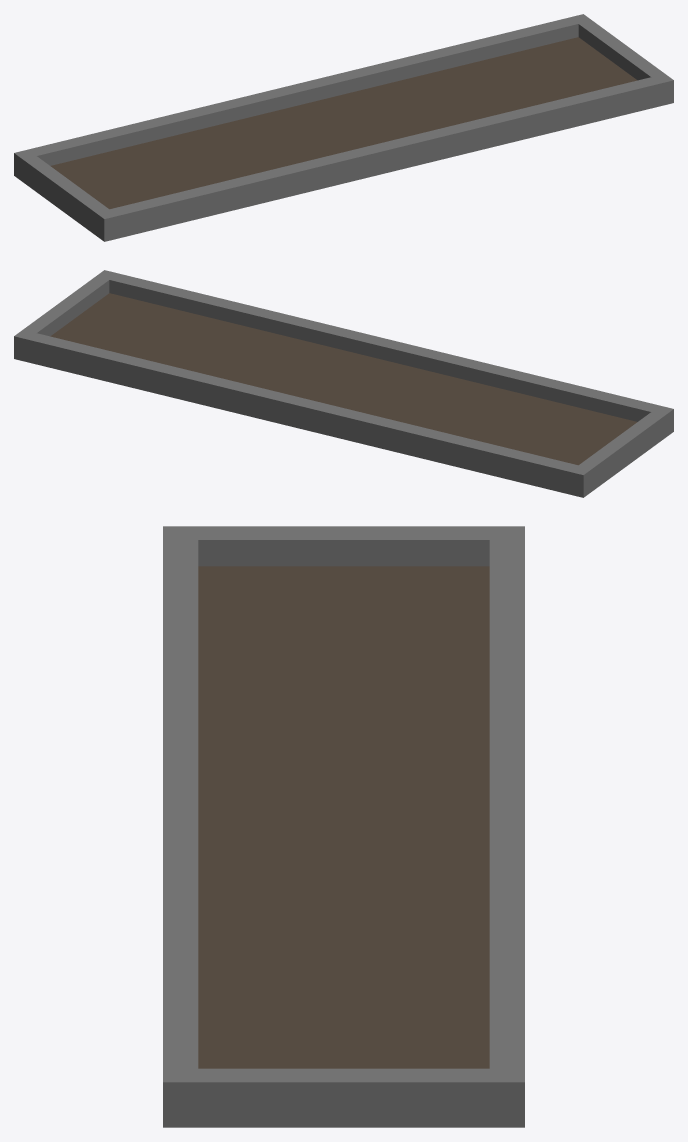
Rendered from flowerbed_4.fbx.
3 renders of one model, top to bottom at view 1: azimuth 30°, elevation 25°; view 2: azimuth 150°, elevation 25°; view 3: azimuth 270°, elevation 25°, orthographic. The views are drawn at different scales.
Visible parts, largest first — view 1: flowerbed_4; view 2: flowerbed_4; view 3: flowerbed_4.
Part boxes in pixels (x1,y1,x2,y2): flowerbed_4: (14,14,673,241); flowerbed_4: (14,270,673,497); flowerbed_4: (163,526,524,1127).
Bounding box in the file's own units: 4.19 × 1.15 × 0.1599.
